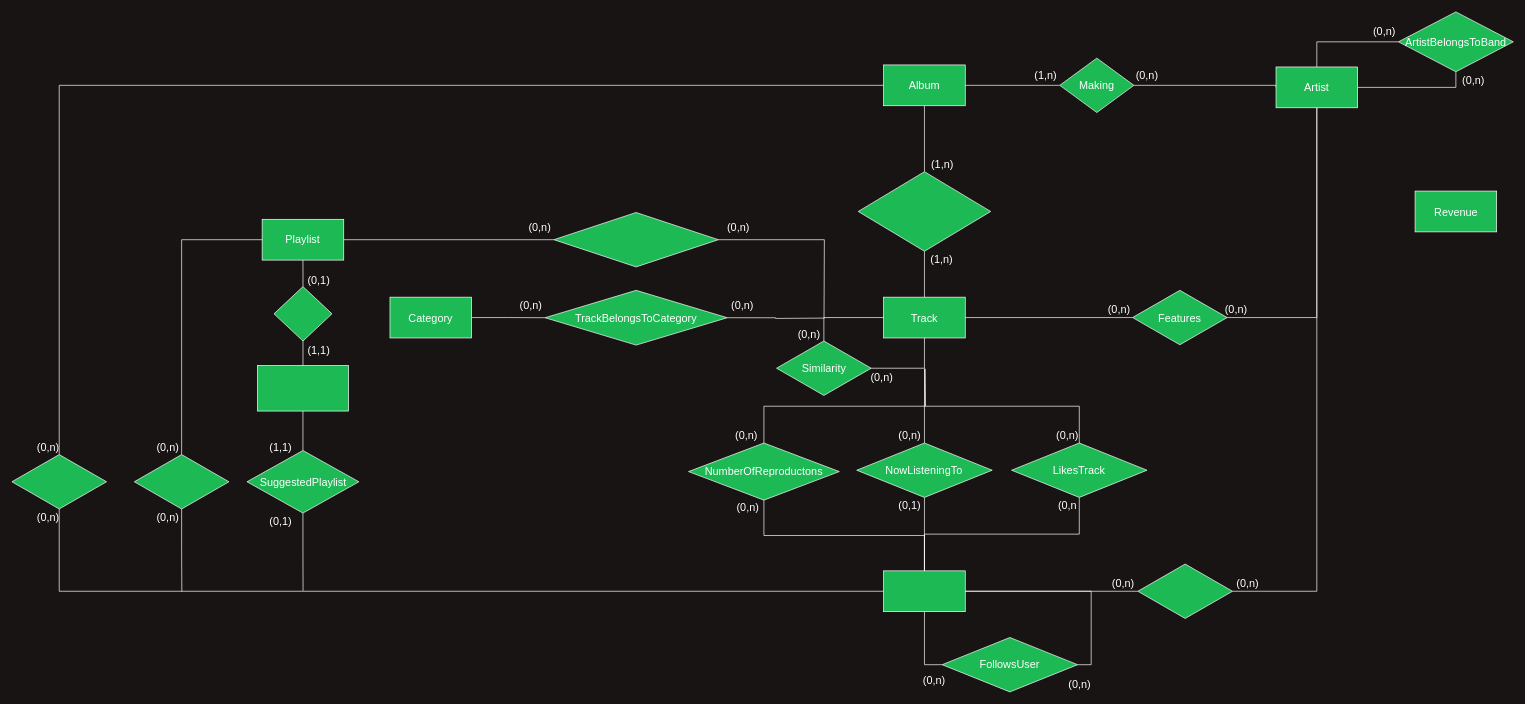
Some shapes in this 1525 by 704 pixel diagram are drawn without their labels. Each missing label, with the box of its shape:
DailySuggestion: (257, 365, 348, 411)
FollowsArtist: (1137, 563, 1232, 618)
IsA: (273, 286, 332, 341)
LikesAlbum: (11, 454, 107, 509)
LikesPlaylist: (134, 454, 229, 509)
TrackBelongsToAlbum: (858, 171, 991, 251)
TrackBelongsToPlaylist: (553, 212, 718, 267)
User: (883, 570, 965, 612)
